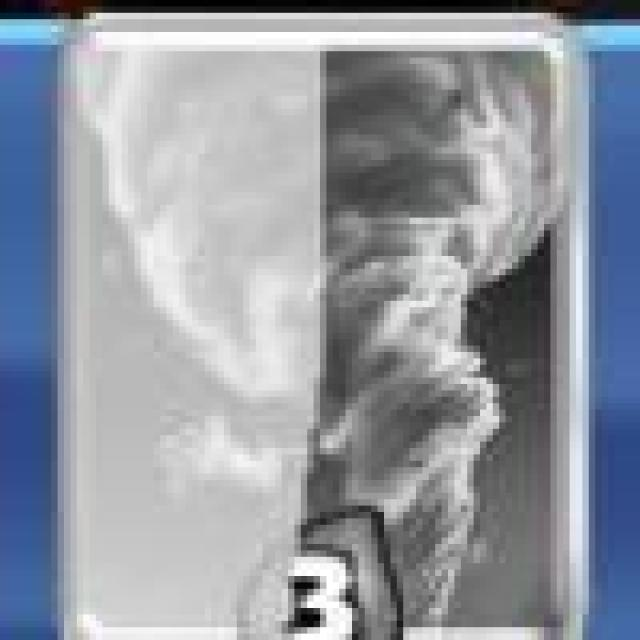Tornado: (55, 21, 592, 640)
